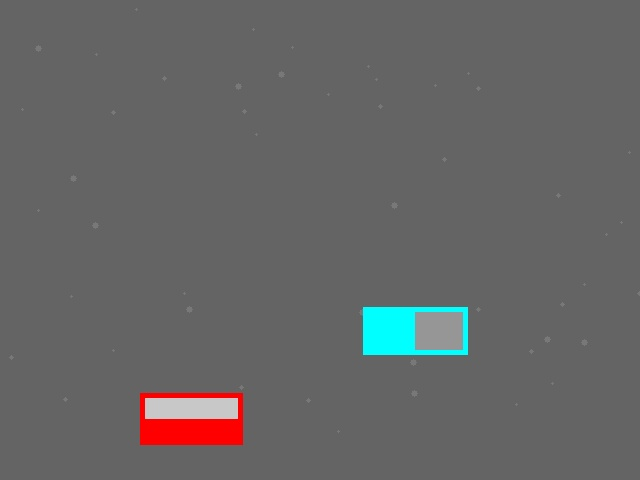car: (140, 393, 242, 444)
truck: (363, 307, 467, 354)
